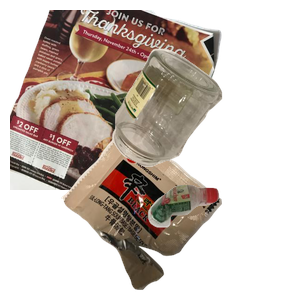glass: (110, 46, 300, 205)
paper: (10, 10, 224, 190)
plastic: (146, 182, 300, 300)
trash: (59, 124, 273, 300)
